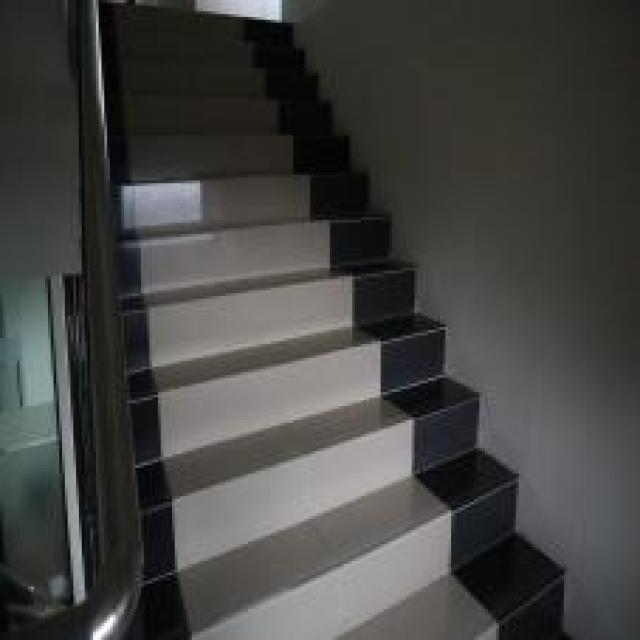upstair: (116, 73, 394, 414)
